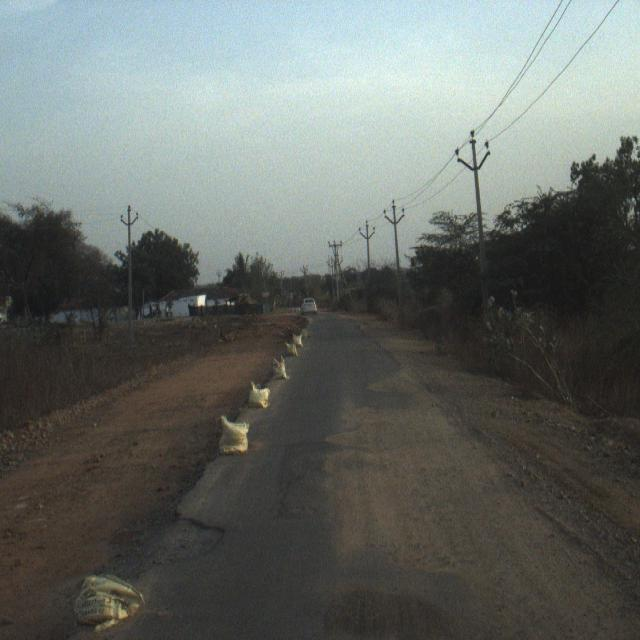Pothole: (293, 366, 411, 536), (141, 486, 238, 587), (311, 571, 450, 640)
